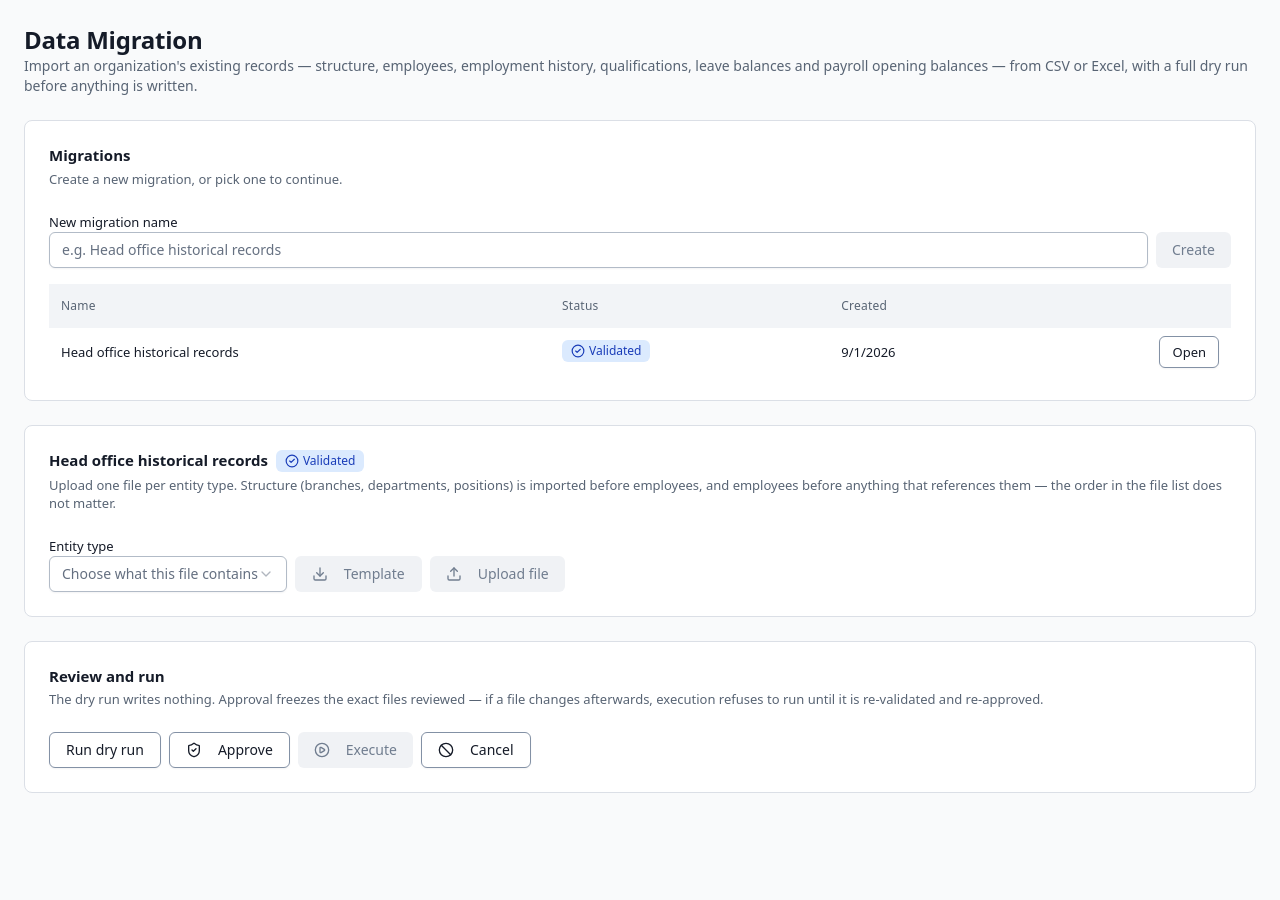
Test: Data Migration — cancel confirmation › asks before cancelling, naming the migration; Keep Migration sends nothing
The image size is (1280, 900).
Click the button "Cancel" at (476, 750), box [421,732,530,768]
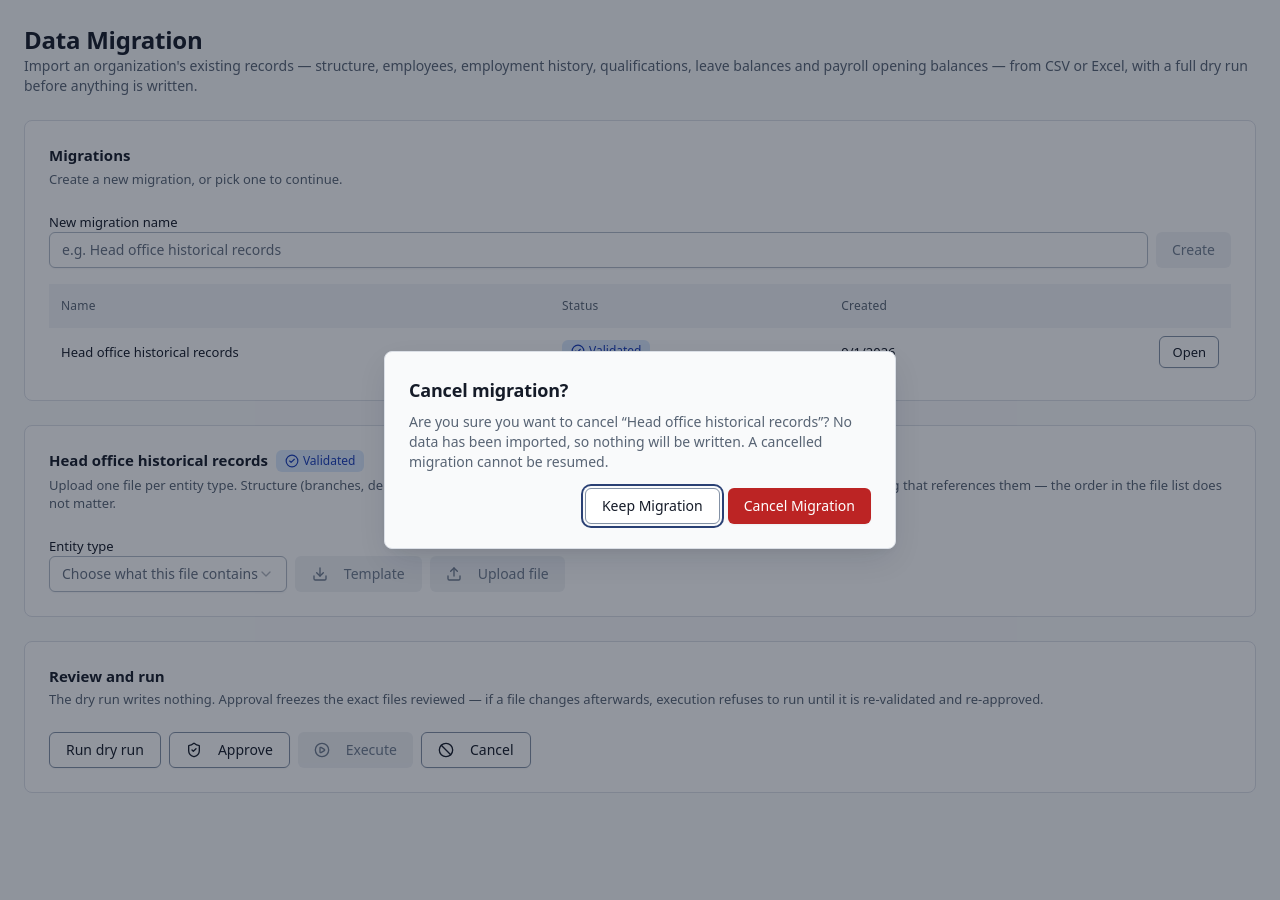
expect the dialog with test id "dialog-cancel-migration" shows "Cancel migration?": met, box [409,378,568,402]
expect the dialog with test id "dialog-cancel-migration" shows "“Head office historical records”": met, box [384,351,896,549]
expect the dialog with test id "dialog-cancel-migration" shows "cannot be resumed": met, box [409,412,852,471]
Click the button with test id "dialog-cancel-migration-cancel" at (652, 506), box [585,488,720,524]
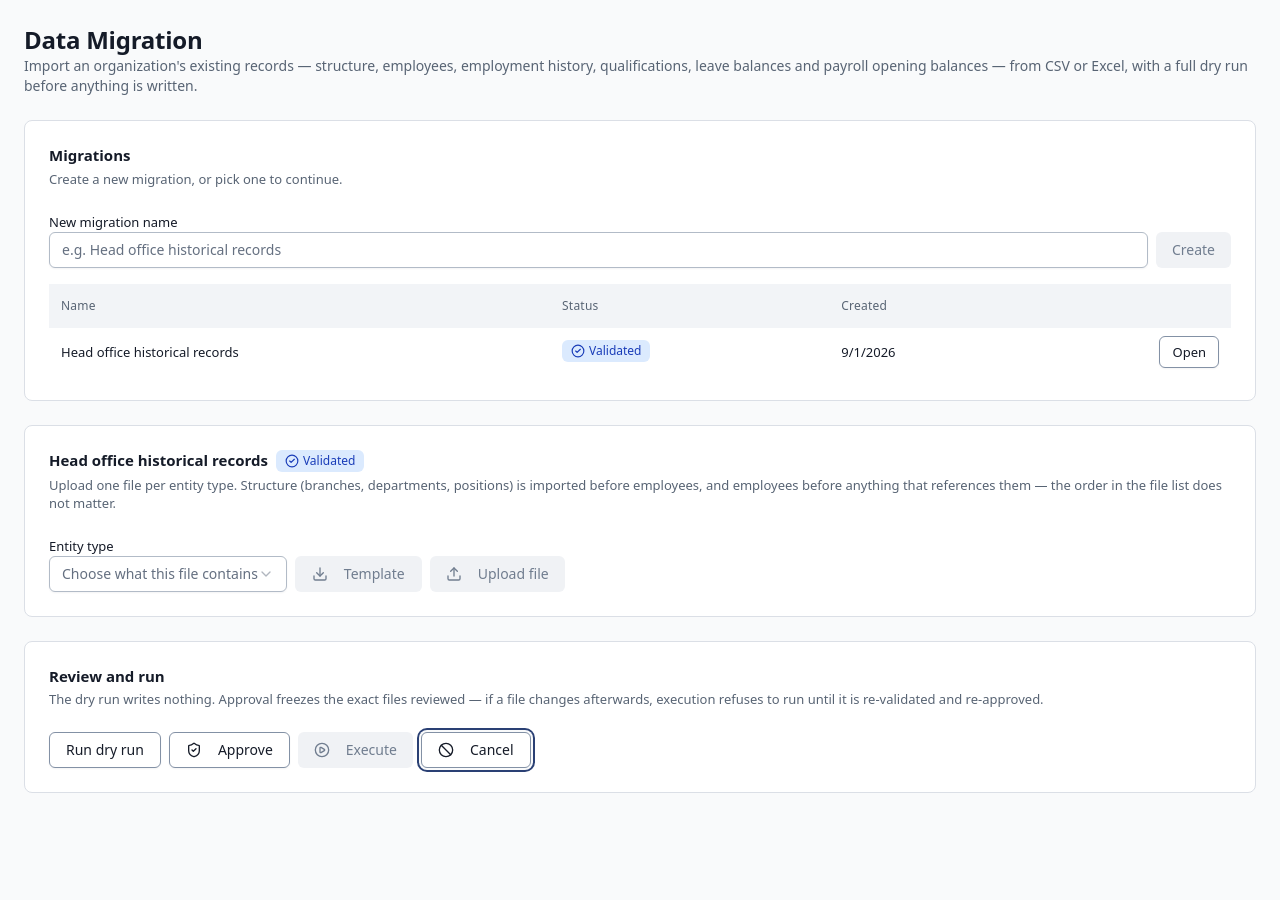
expect the dialog with test id "dialog-cancel-migration" is gone: met
